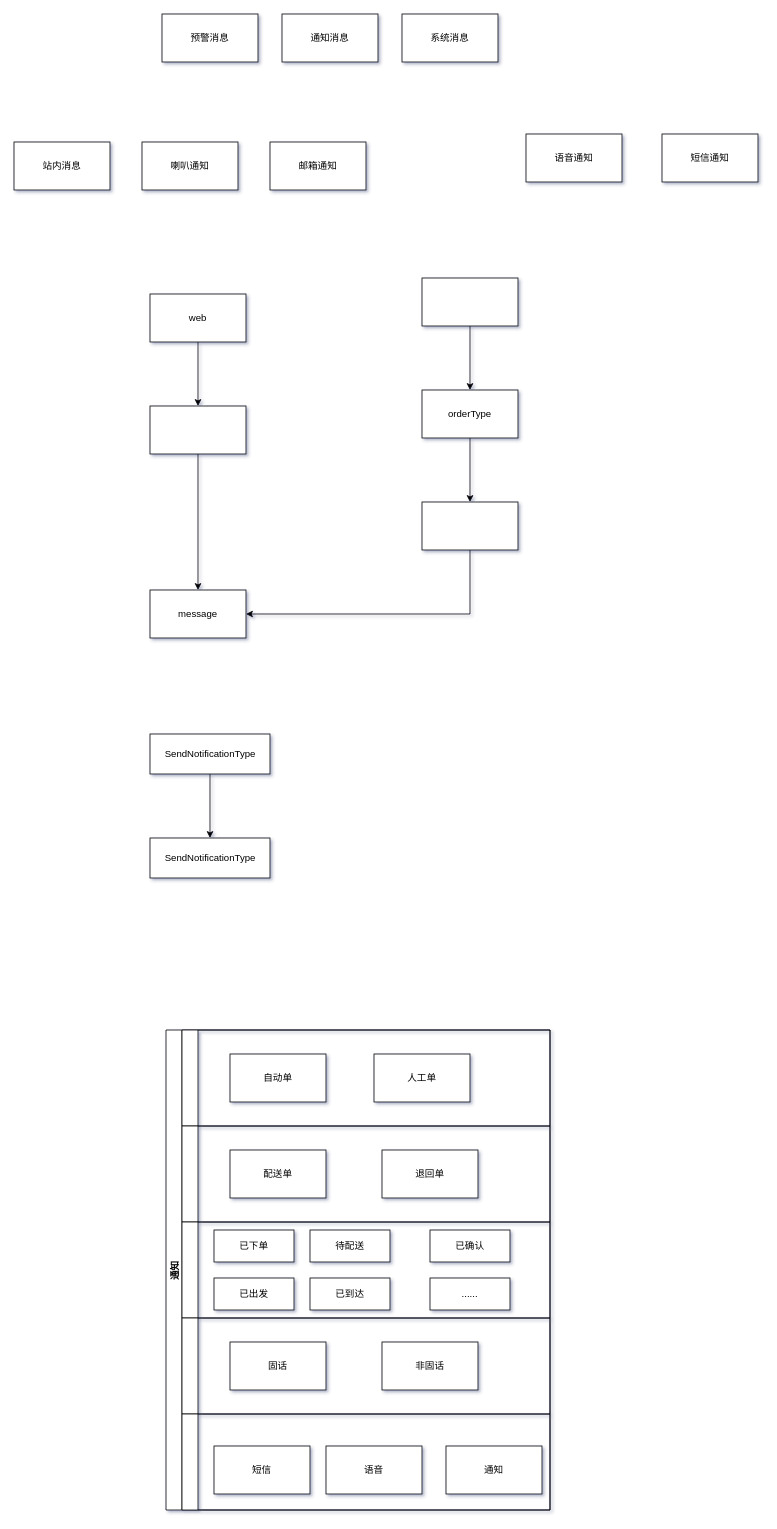
This 777x1529 diagram has some shape labels left out. The box of each missing label's shape, as (x1, y1, x2, y2) in pixels:
orderState/payload: (421, 501, 518, 550)
robot: (421, 277, 518, 326)
type/payload: (149, 405, 246, 454)
是否固话: (181, 1317, 550, 1414)
订单来源: (181, 1029, 550, 1126)
订单状态: (181, 1221, 550, 1318)
订单类型: (181, 1125, 550, 1222)
通知类型: (181, 1413, 550, 1510)
